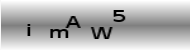5: (112, 9, 127, 23)
A: (65, 15, 82, 29)
W: (90, 25, 113, 41)
i: (26, 23, 31, 37)
m: (48, 28, 69, 39)
